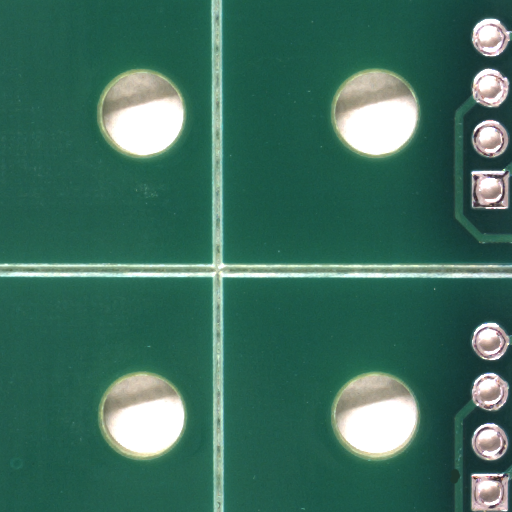Mouse_bite: (456, 477, 464, 495)
